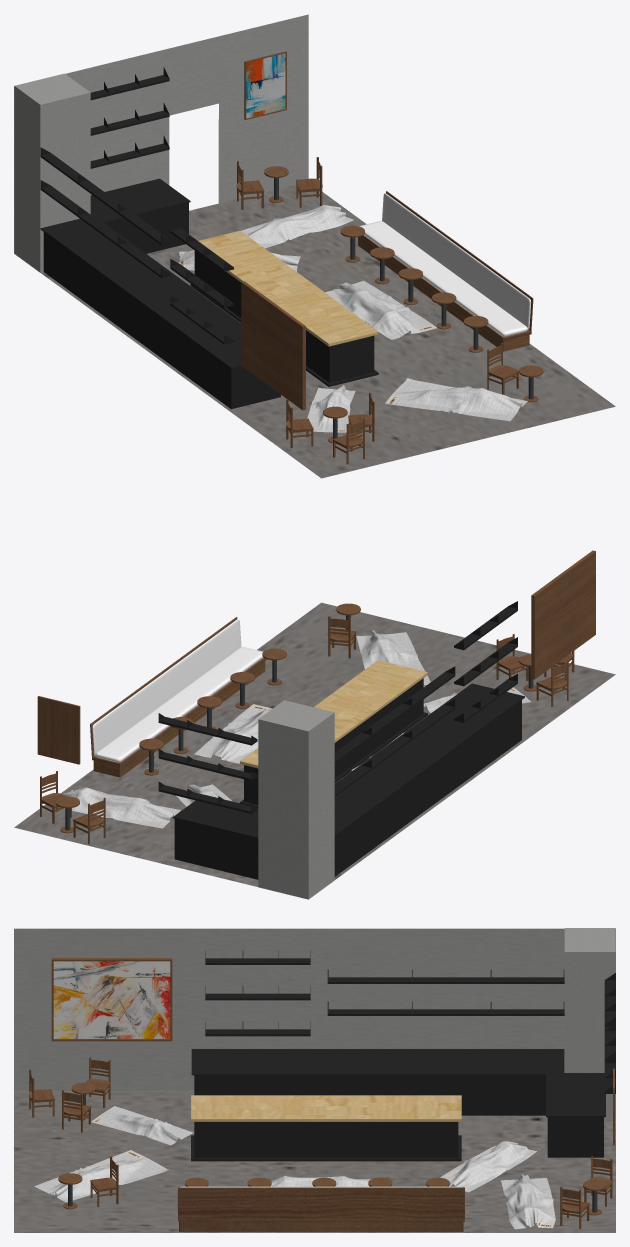
File: fullShop_fancy.gltf
The picture shows the model from 3 angles, top to bottom: view 1: azimuth 30°, elevation 25°; view 2: azimuth 150°, elevation 25°; view 3: azimuth 270°, elevation 25°; orthographic projection. The views are drawn at different scales.
Visible parts, largest first — view 1: |pCube3:PIV; view 2: |pCube3:PIV; view 3: |pCube3:PIV.
Part boxes in pixels (x1,y1,x2,y2): |pCube3:PIV: (14, 14, 615, 478); |pCube3:PIV: (14, 550, 615, 899); |pCube3:PIV: (14, 928, 615, 1232).
Size of the model in its own units: 278 by 151 by 500.
